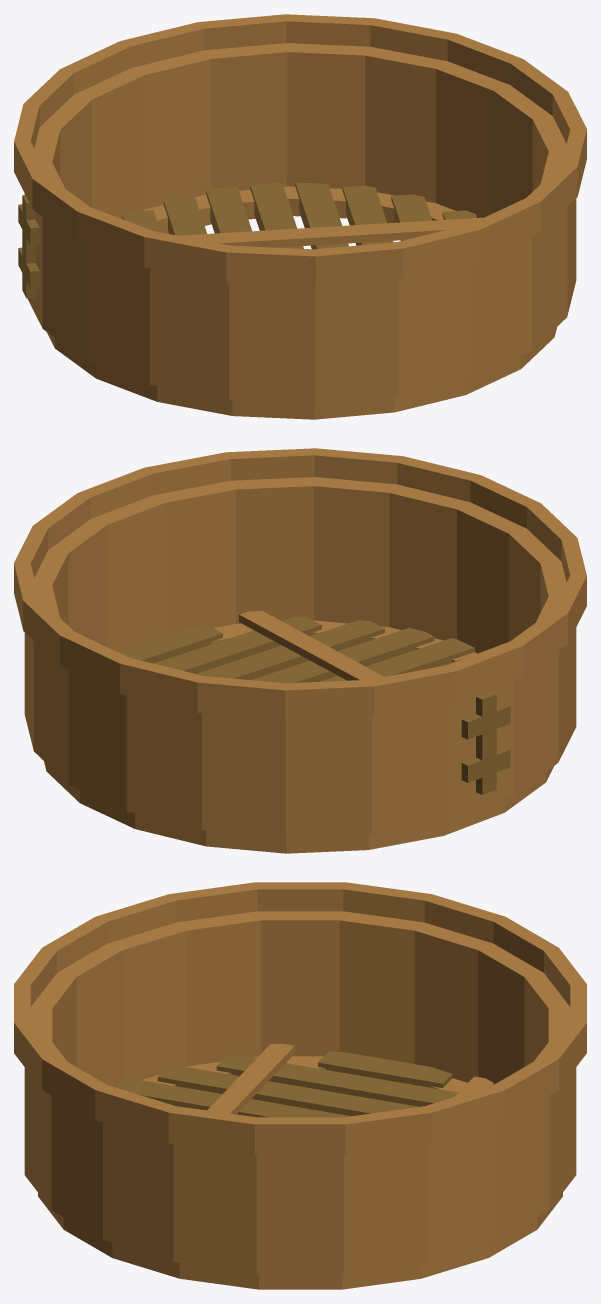
Rendered from SM_Cook_Steamer_Honey_01.fbx.
The picture shows the model from 3 angles, top to bottom: view 1: azimuth 30°, elevation 25°; view 2: azimuth 150°, elevation 25°; view 3: azimuth 270°, elevation 25°; orthographic projection.
Visible parts, largest first — view 1: SM_Cook_Steamer_Honey_01; view 2: SM_Cook_Steamer_Honey_01; view 3: SM_Cook_Steamer_Honey_01.
Part boxes in pixels (x1,y1,x2,y2): SM_Cook_Steamer_Honey_01: [14, 14, 586, 419]; SM_Cook_Steamer_Honey_01: [14, 448, 586, 853]; SM_Cook_Steamer_Honey_01: [14, 882, 586, 1289].
Bounding box in the file's own units: 0.237 × 0.08 × 0.237.
1 material, 1 textured.
